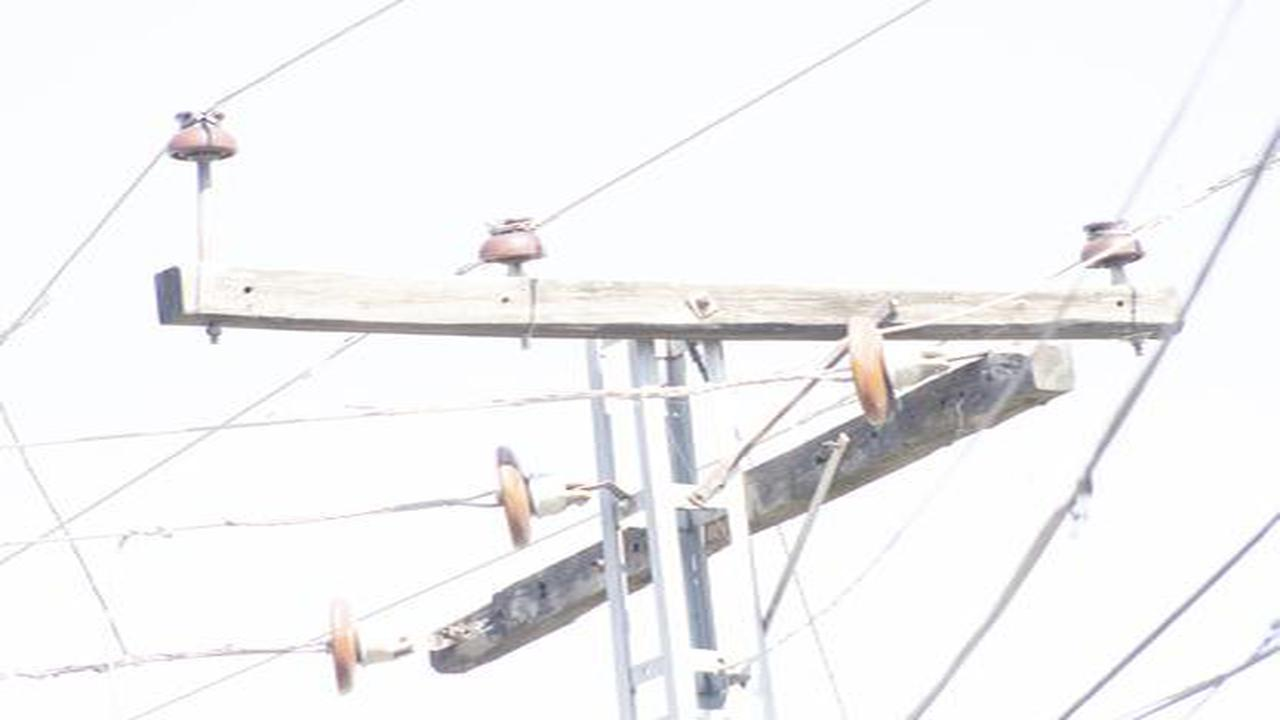insulator_disc: (842, 315, 917, 432), (494, 442, 566, 541), (325, 587, 391, 692)
insulator_pin: (1077, 212, 1152, 273), (476, 210, 550, 271), (166, 107, 241, 167)
